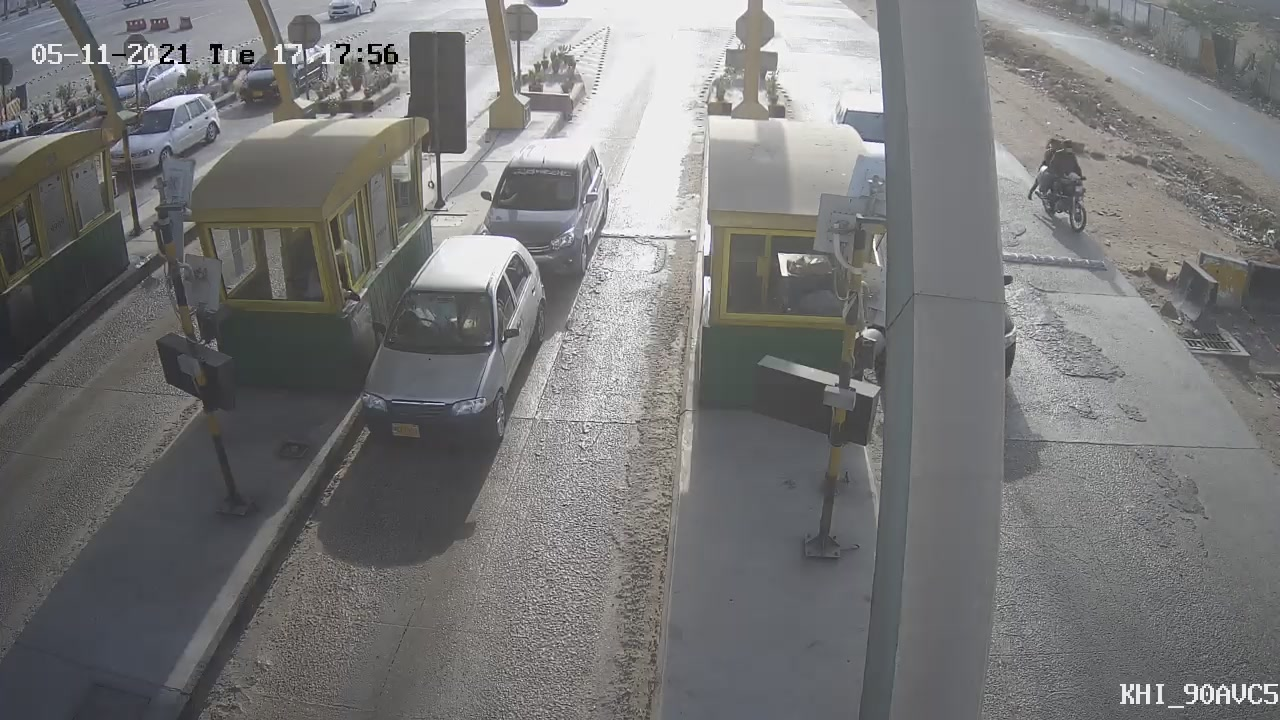F1: (329, 218, 565, 470), (456, 126, 620, 295)
